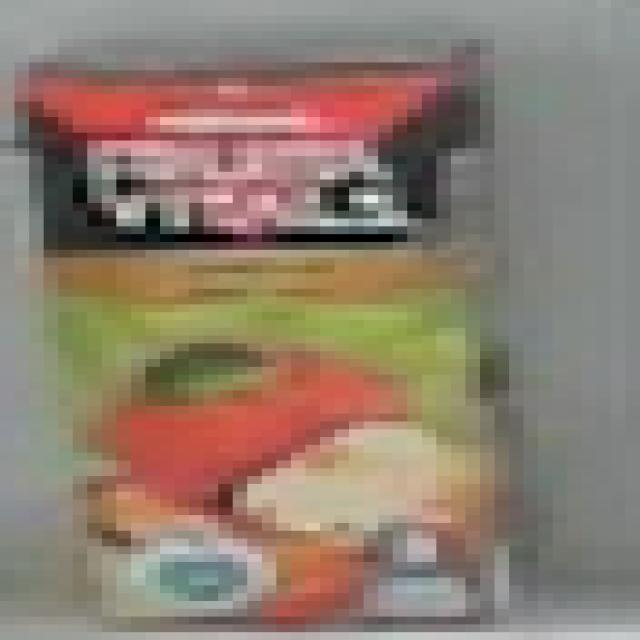Plastic: (10, 28, 558, 632)
